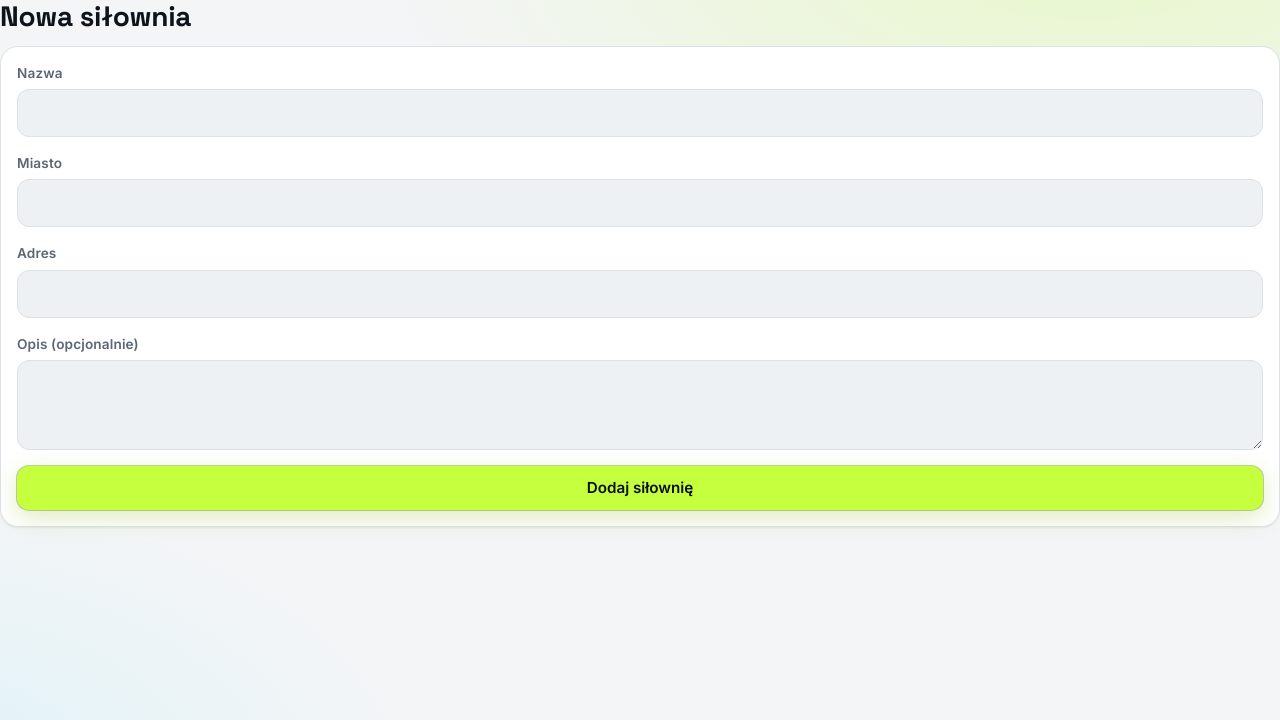
Scenario: AddGymPage › warns about possible duplicate and allows adding anyway
The image size is (1280, 720).
Type "Arena Fitness Centrum" into the field labelled "Nazwa" at (640, 113), box [17,89,1263,137]
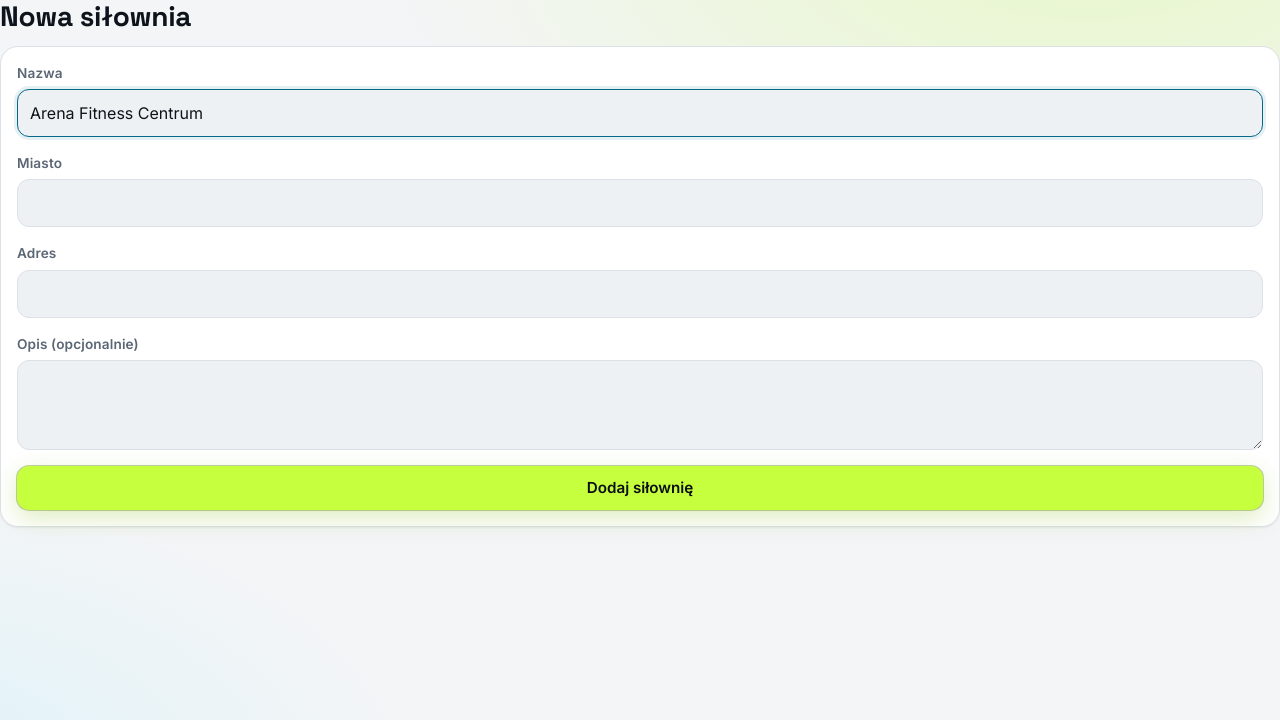
Type "Warszawa" into the field labelled "Miasto" at (640, 203), box [17,179,1263,227]
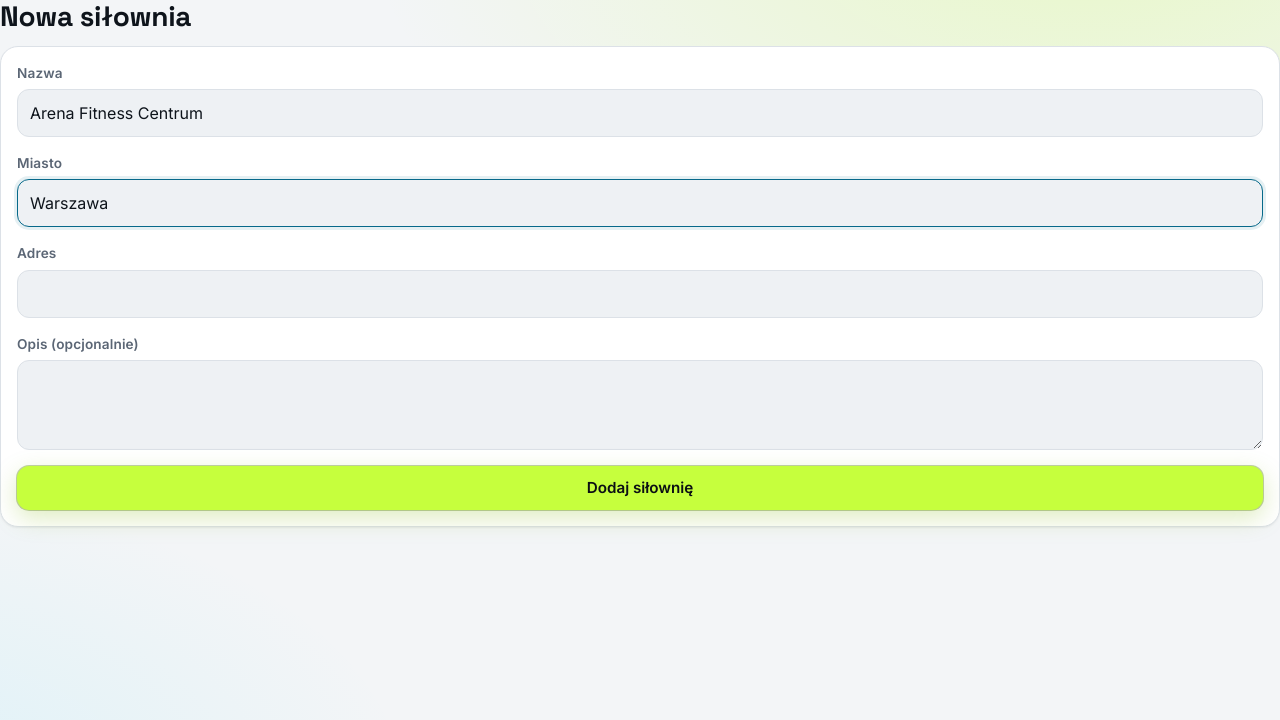
Type "ul. Marszałkowska 102" into the field labelled "Adres" at (640, 294), box [17,270,1263,318]
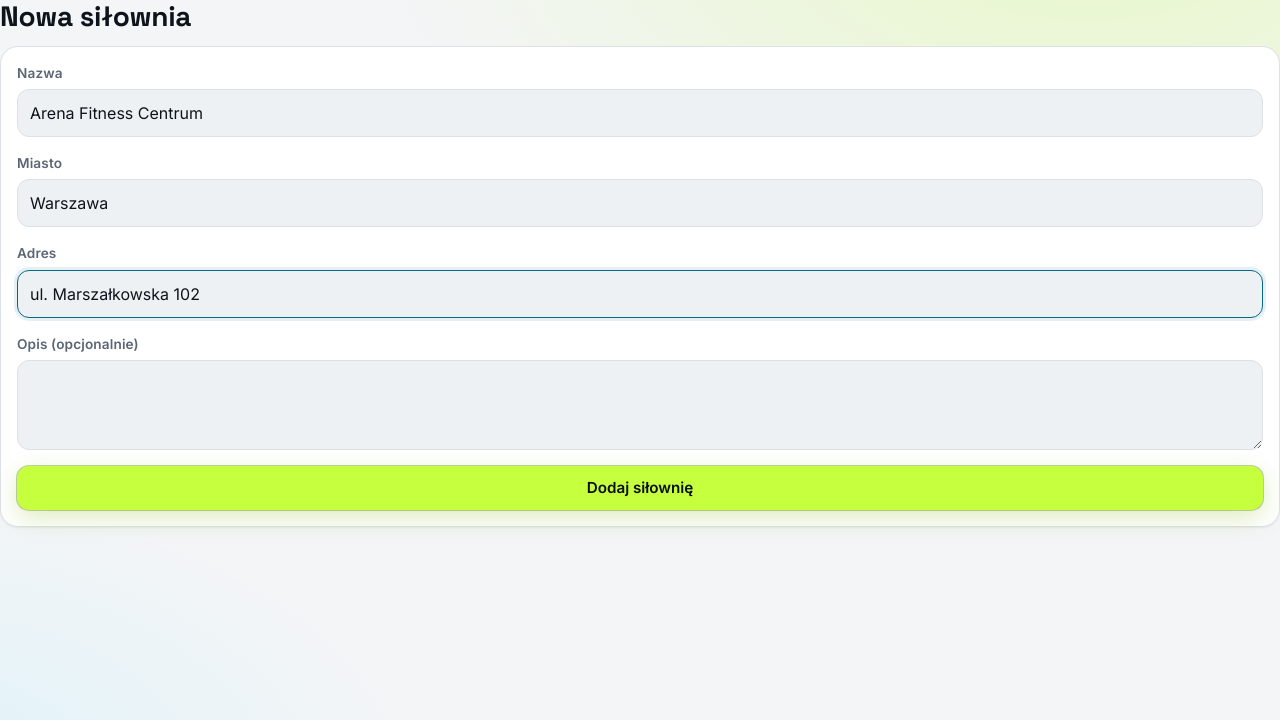
Click the button "Dodaj siłownię" at (640, 488), box [17,466,1263,510]
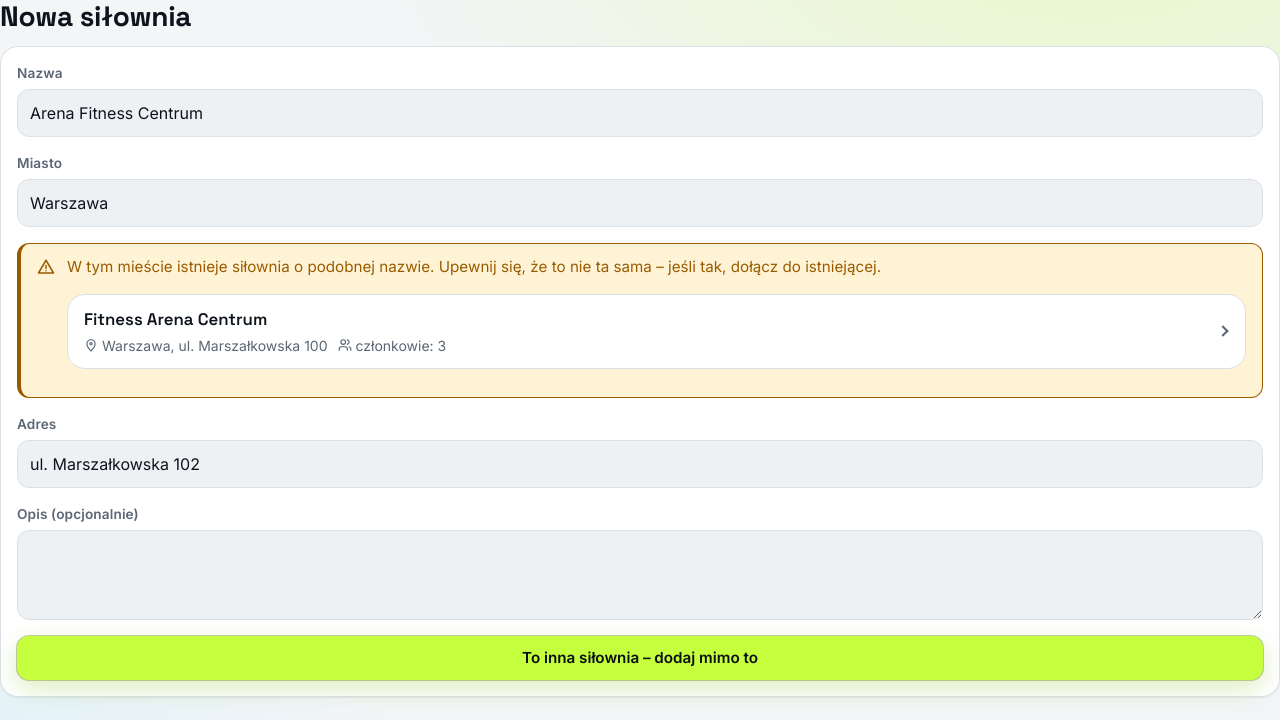
Expected: the text "istnieje siłownia o podobnej nazwie" is shown, [67,257,881,276]
Expected: the text "Fitness Arena Centrum" is shown, [84,308,267,330]
Click the button "To inna siłownia – dodaj mimo to" at (640, 658), box [17,636,1263,680]
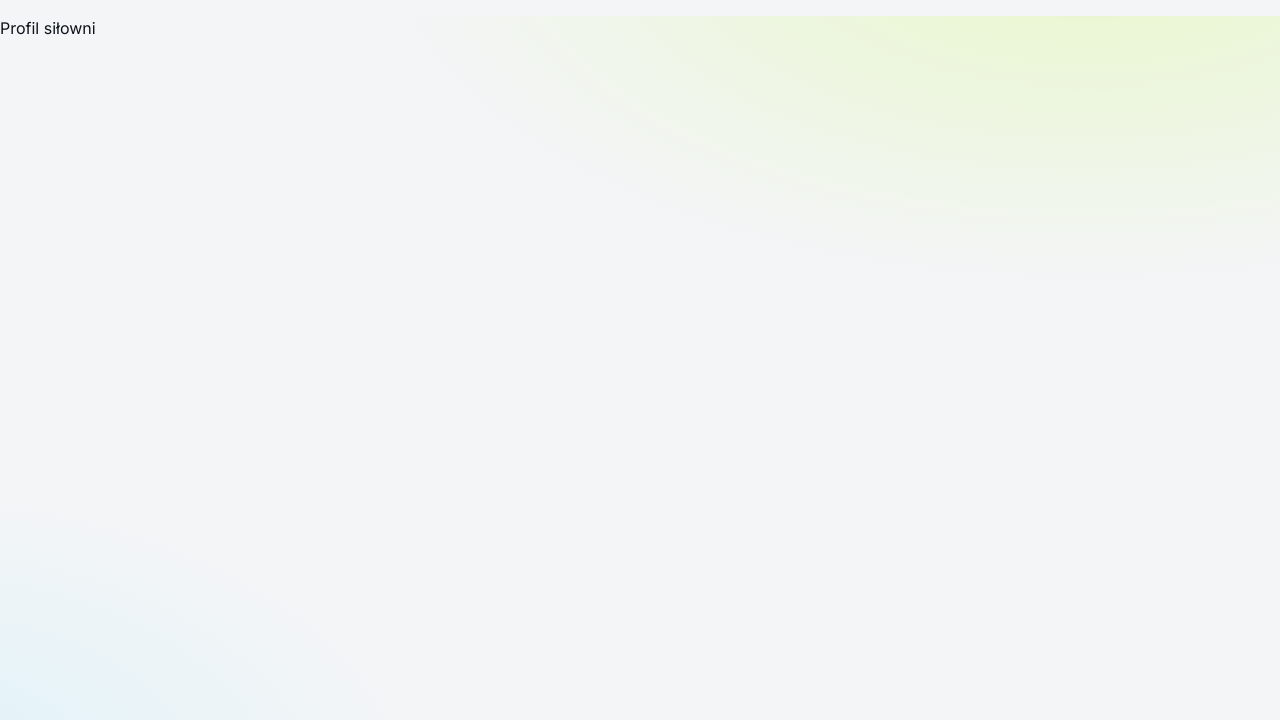
Expected: the text "Profil siłowni" is shown, [0,18,96,38]
